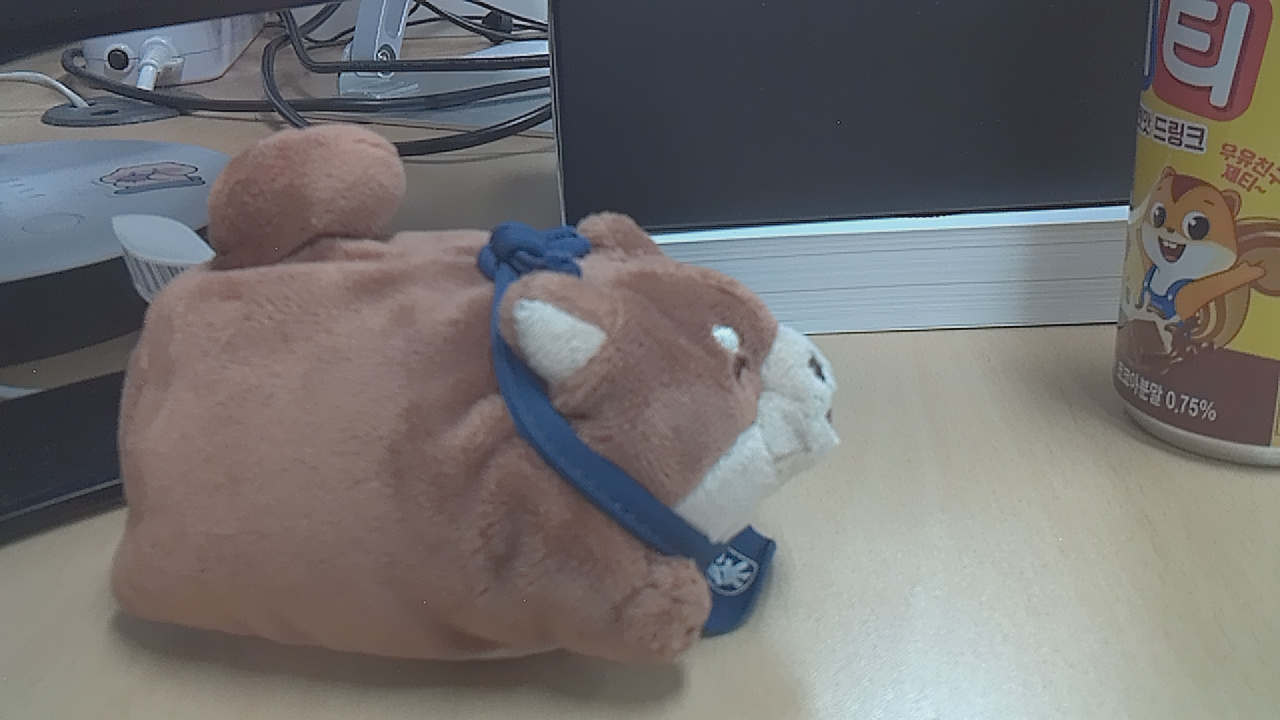cuteDog: (123, 145, 852, 701)
